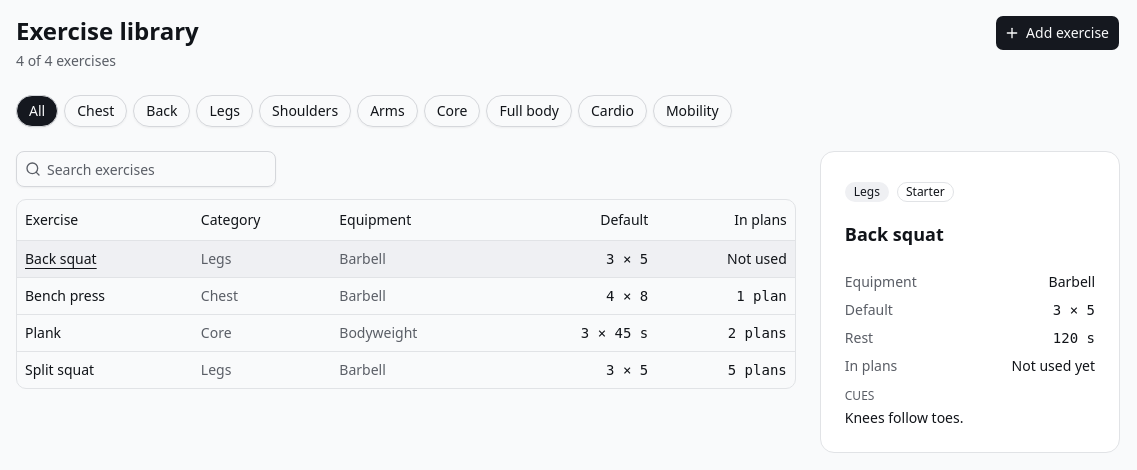
Test: ExerciseLibraryPage › shows the first exercise in the panel, then the one that was chosen
Expected: the button "Back squat" is shown, [25,248,97,268]
Expected: the heading "Back squat" is shown, [845,222,944,246]
Click the button "Plank" at coordinates (43, 332), box [25,322,61,342]
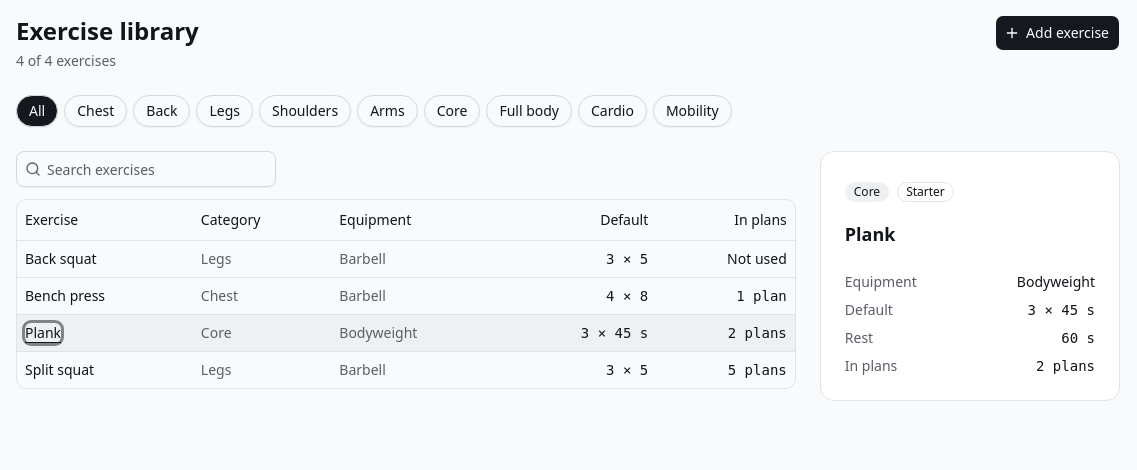
Expected: the heading "Plank" is shown, [845,222,896,246]
Expected: the text "60 s" is shown, [1061,328,1095,348]
Expected: the text "2 plans" is shown, [1036,356,1095,376]
